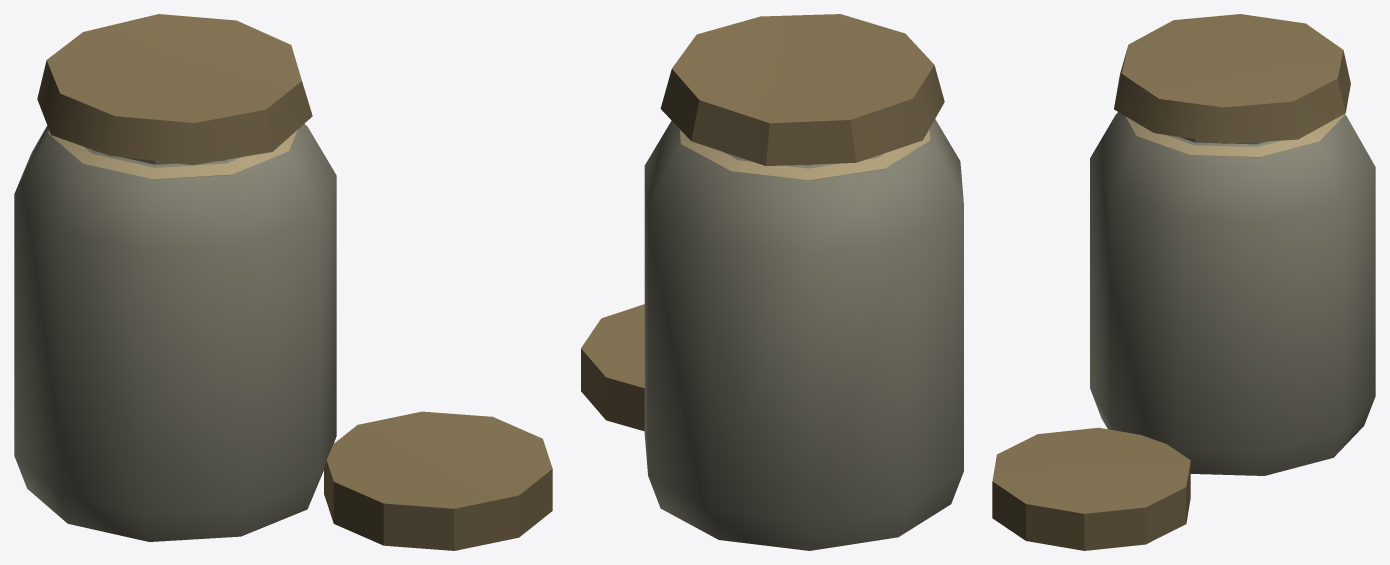
File: ph_item_prep_jar.glb
The picture shows the model from 3 angles, left to right: view 1: azimuth 30°, elevation 25°; view 2: azimuth 150°, elevation 25°; view 3: azimuth 270°, elevation 25°; orthographic projection. The views are drawn at different scales.
Parts seen in each view (by area): view 1: ph_item_prep_jar; view 2: ph_item_prep_jar; view 3: ph_item_prep_jar.
Boxes of the visible parts, x1=… form: ph_item_prep_jar: x1=14, y1=14, x2=552, y2=550; ph_item_prep_jar: x1=581, y1=14, x2=963, y2=550; ph_item_prep_jar: x1=992, y1=14, x2=1375, y2=550.
Bounding box in the file's own units: 0.2086 × 0.1994 × 0.1874.
